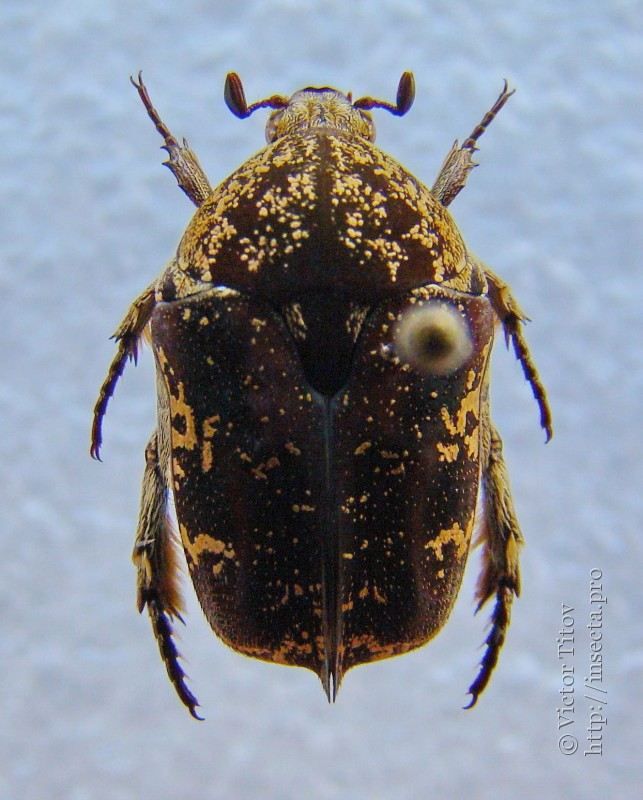Protaetia_fusca: (89, 51, 539, 730)
